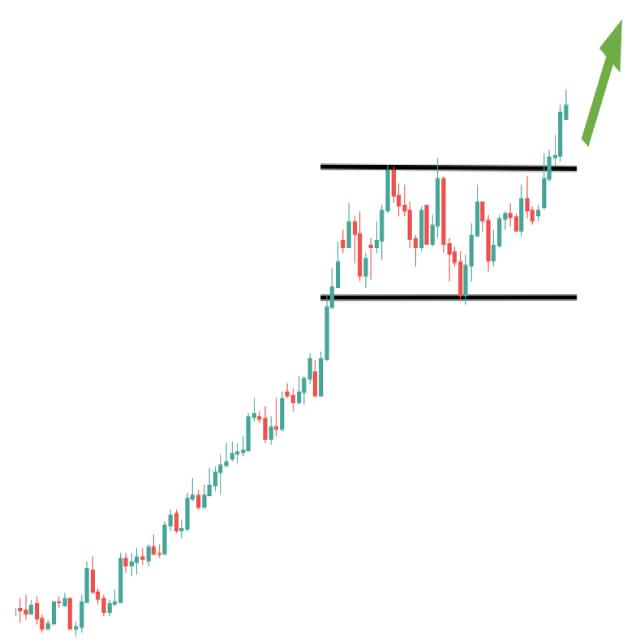rectangle: (318, 171, 582, 293)
